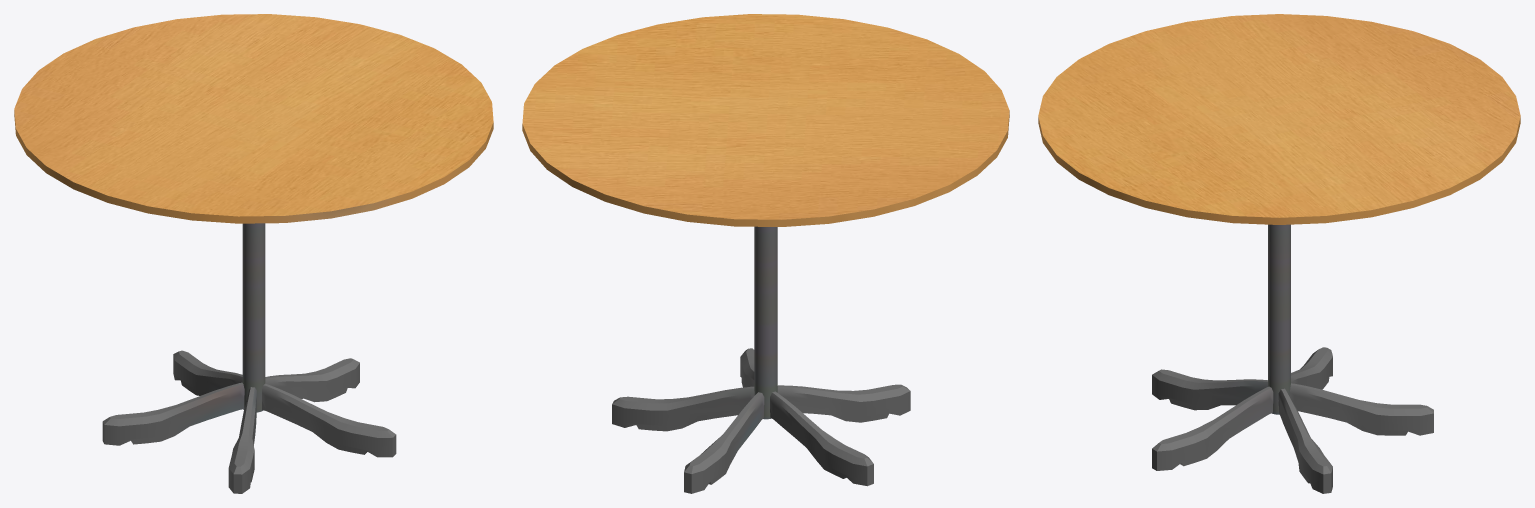
Rendered from table1.fbx.
The picture shows the model from 3 angles, left to right: view 1: azimuth 30°, elevation 25°; view 2: azimuth 150°, elevation 25°; view 3: azimuth 270°, elevation 25°; orthographic projection.
Visible parts, largest first — view 1: table1; view 2: table1; view 3: table1.
Boxes of the visible parts, box(x1,y1,x2,y2) form: table1: box(14, 14, 493, 493); table1: box(522, 14, 1009, 493); table1: box(1038, 14, 1520, 493).
Bounding box in the file's own units: 1.23 × 1.23 × 0.8895.
